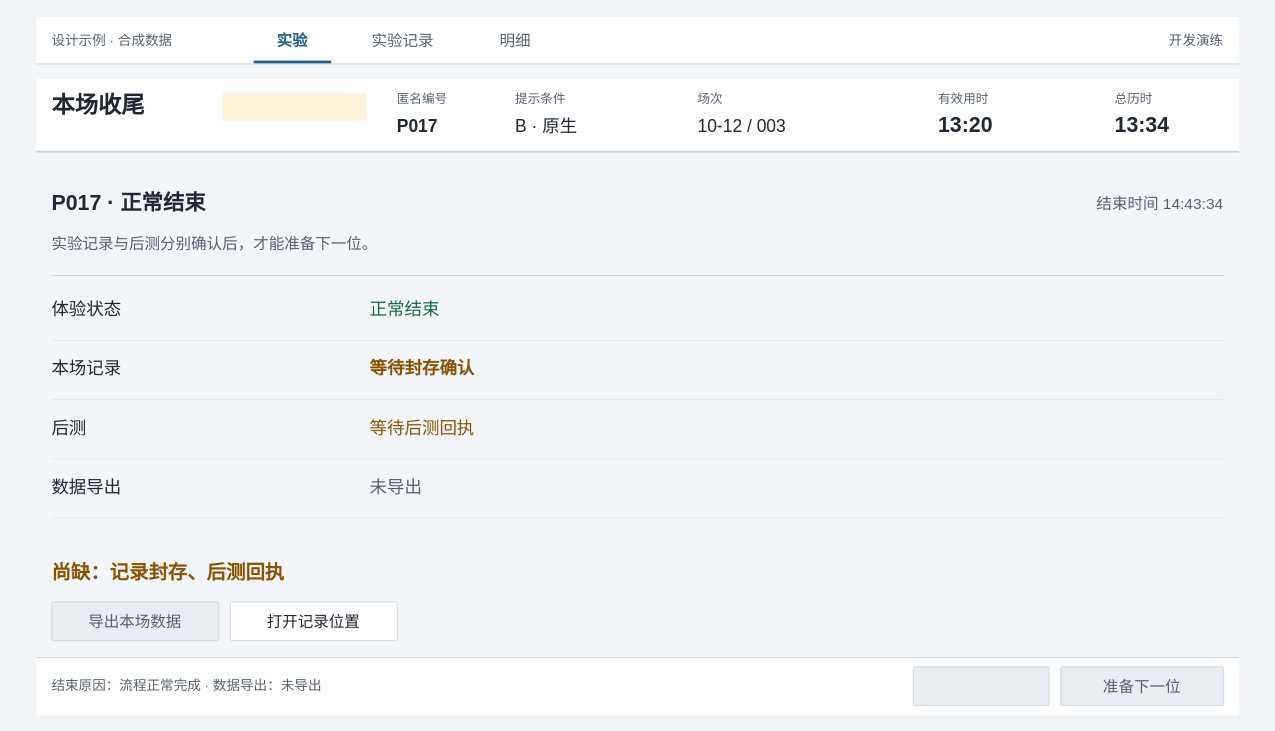
This 1275x731 diagram has some shape labels left out. Here are the shapes that lost their labels. From the top down, the centre of each, then its label:
At (x=294, y=106): "体验已结束".
At (x=980, y=686): "返回主页".
